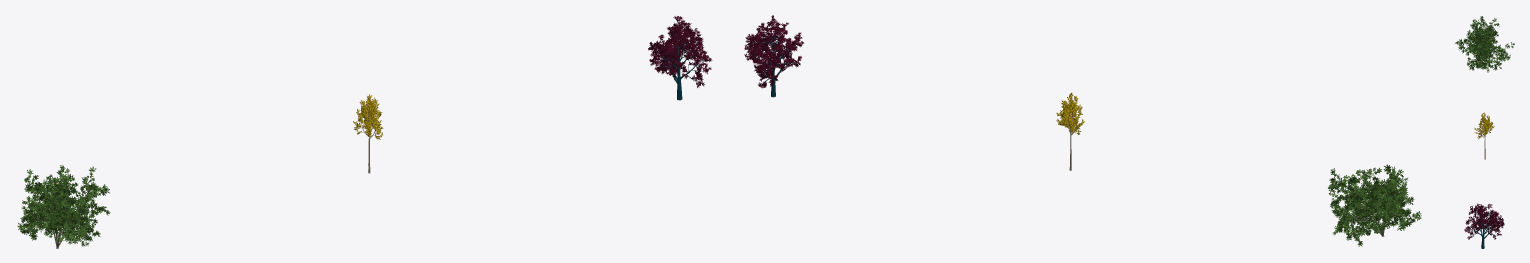
The model's file is trees-natural-DEPjQFiB.glb.
3 renders of one model, left to right at view 1: azimuth 30°, elevation 25°; view 2: azimuth 150°, elevation 25°; view 3: azimuth 270°, elevation 25°, orthographic. The views are drawn at different scales.
Visible parts, largest first — view 1: Tree_Green_Leaves, Tree_Red_Leaves, Tree_Gold_Leaves, Tree_Red_Branches; view 2: Tree_Green_Leaves, Tree_Red_Leaves, Tree_Gold_Leaves, Tree_Red_Branches; view 3: Tree_Green_Leaves, Tree_Red_Leaves, Tree_Red_Branches, Tree_Gold_Leaves, Tree_Gold_Branches.
Part boxes in pixels (bbox=[...]): Tree_Green_Leaves: bbox=[17, 165, 110, 246]; Tree_Red_Leaves: bbox=[648, 16, 712, 87]; Tree_Gold_Leaves: bbox=[353, 94, 383, 139]; Tree_Red_Branches: bbox=[656, 20, 705, 100]; Tree_Green_Leaves: bbox=[1328, 164, 1421, 246]; Tree_Red_Leaves: bbox=[744, 15, 803, 88]; Tree_Gold_Leaves: bbox=[1056, 92, 1084, 134]; Tree_Red_Branches: bbox=[749, 26, 796, 97]; Tree_Green_Leaves: bbox=[1455, 16, 1514, 72]; Tree_Red_Leaves: bbox=[1464, 203, 1504, 239]; Tree_Red_Branches: bbox=[1468, 206, 1500, 248]; Tree_Gold_Leaves: bbox=[1474, 112, 1494, 139]; Tree_Gold_Branches: bbox=[1477, 115, 1491, 159].
Bounding box in the file's own units: 8.97 × 1 × 1.2.
6 materials, 6 textured.
